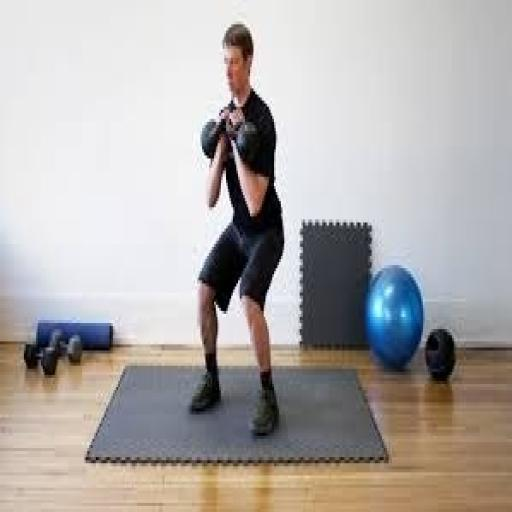running: (187, 18, 286, 439)
